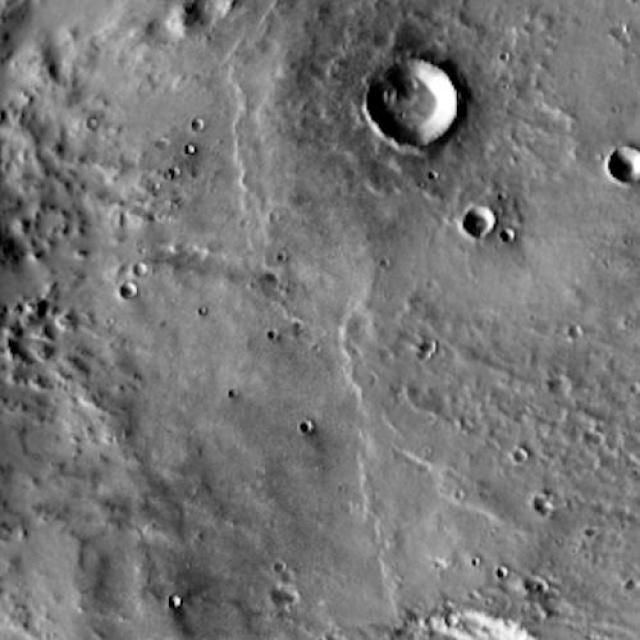crater: (0, 0, 396, 640), (42, 0, 464, 179), (115, 0, 341, 100), (353, 34, 488, 162), (0, 0, 81, 78), (0, 0, 62, 65), (443, 190, 505, 250), (596, 140, 640, 203), (0, 0, 39, 38), (0, 0, 24, 36)
